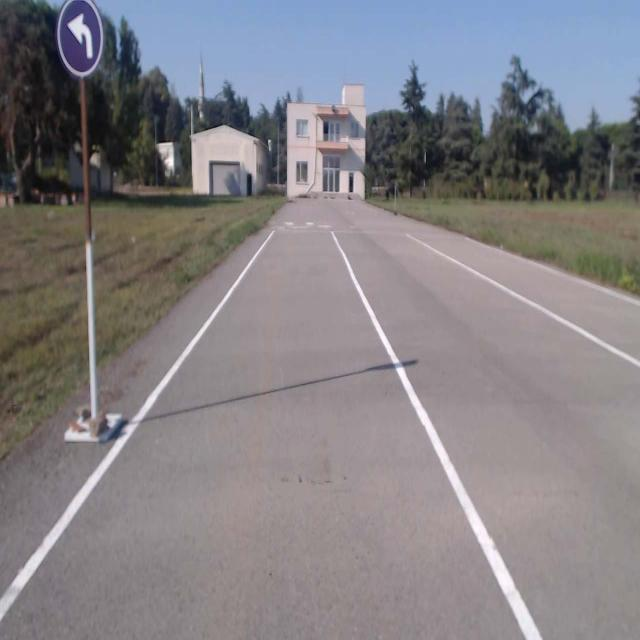sol: (57, 1, 103, 77)
